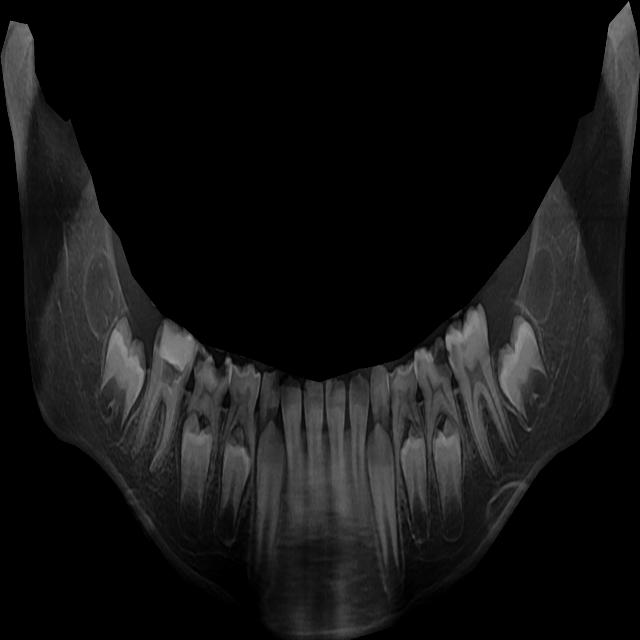mandibula: (0, 1, 640, 640)
